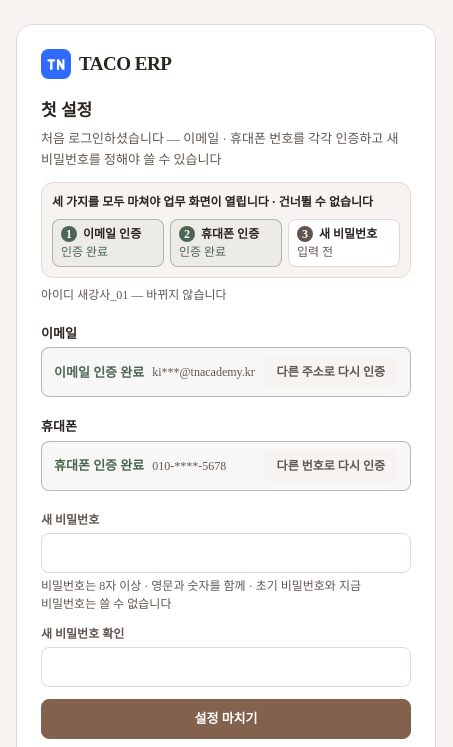
첫 설정 화면 › 두 채널을 마친 뒤 비밀번호 규칙 거절은 3단계를 「규칙 확인」으로 바꾸고 세션을 그대로 둔다
Check: the text "비밀번호는 8자 이상 · 영문과 숫자를 함께 · 초기 비밀번호와 지금 비밀번호는 쓸 수 없습니다" is shown, box left=41, top=577, right=411, bottom=613
Type "short" into the password field labelled "새 비밀번호" at coordinates (226, 553), box left=41, top=533, right=411, bottom=573
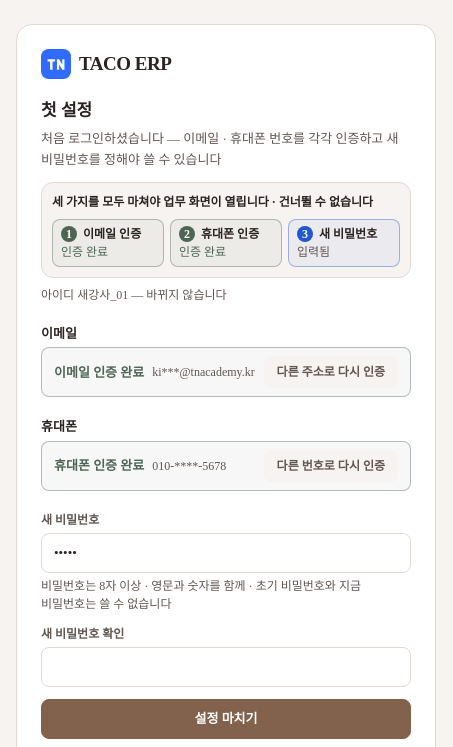
Type "short" into the password field labelled "새 비밀번호 확인" at coordinates (226, 667), box left=41, top=647, right=411, bottom=687
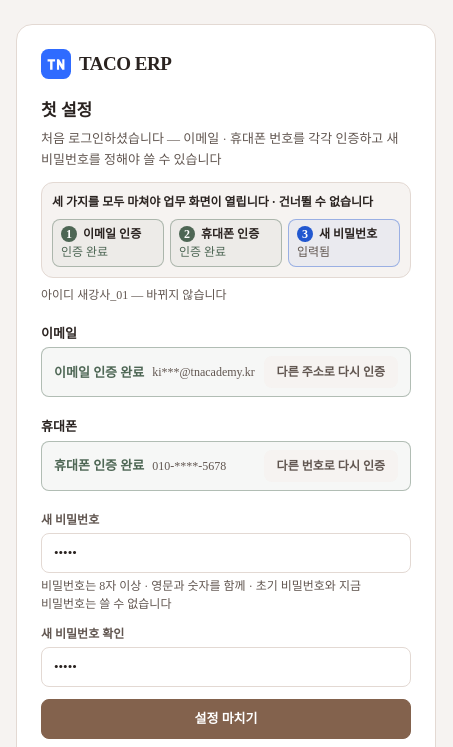
Click the button "설정 마치기" at coordinates (226, 719), box left=41, top=699, right=411, bottom=739
(page scrolled)
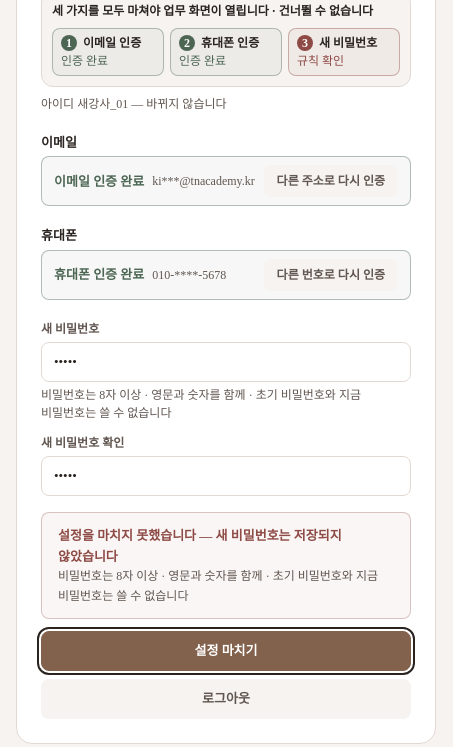
Check: the list item "3 새 비밀번호 규칙 확인" is shown, box left=288, top=28, right=400, bottom=76
Check: the text "설정을 마치지 못했습니다 — 새 비밀번호는 저장되지 않았습니다" is shown, box left=58, top=528, right=342, bottom=564
